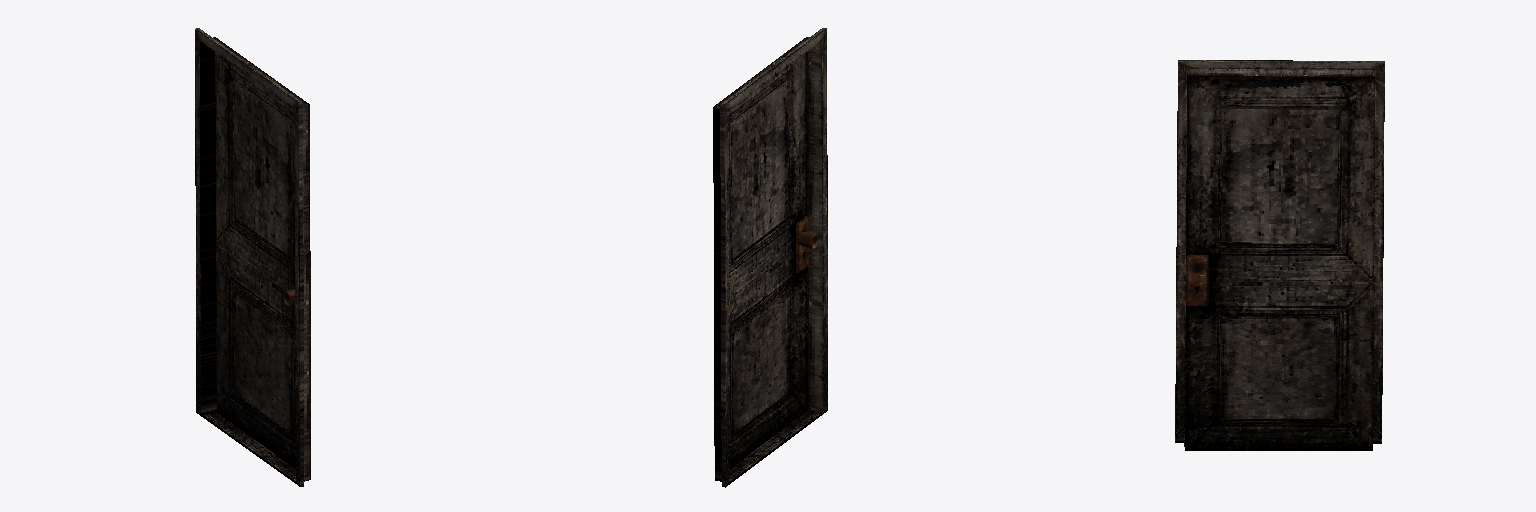
The picture shows the model from 3 angles: view 1: azimuth 30°, elevation 25°; view 2: azimuth 150°, elevation 25°; view 3: azimuth 270°, elevation 25°; orthographic projection.
Parts seen in each view (by area): view 1: polySurface623; view 2: polySurface623; view 3: polySurface623.
Part boxes in pixels (x1,y1,x2,y2): polySurface623: (195,28,310,486); polySurface623: (713,28,827,487); polySurface623: (1175,60,1384,450).
Bounding box in the file's own units: 0.1473 × 3.13 × 1.55.
1 materials, 1 textured.